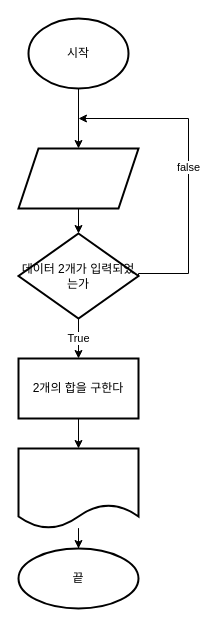
Some shapes in this 217 by 626 pixel diagram are drawn without their labels. Here are the shapes that lost their labels. From the top down, the box of each, then its label:
(17, 147, 139, 209): 정수 2개 입력
(17, 447, 139, 529): 구한 합을 화면에 출력
